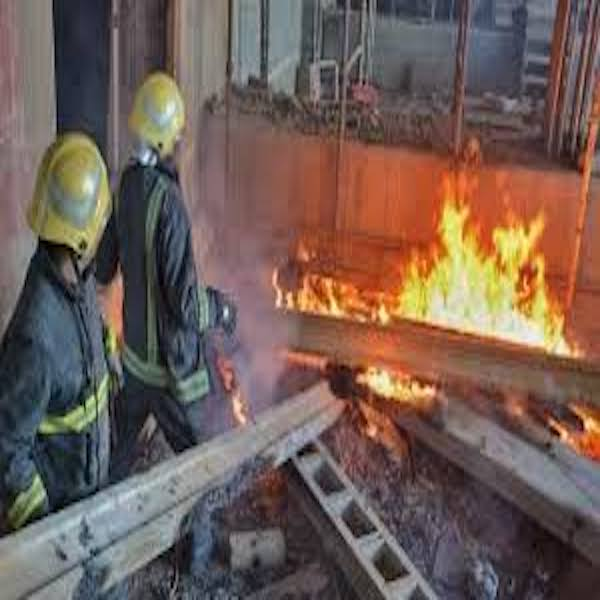fire: (408, 175, 569, 351), (280, 261, 403, 322)
